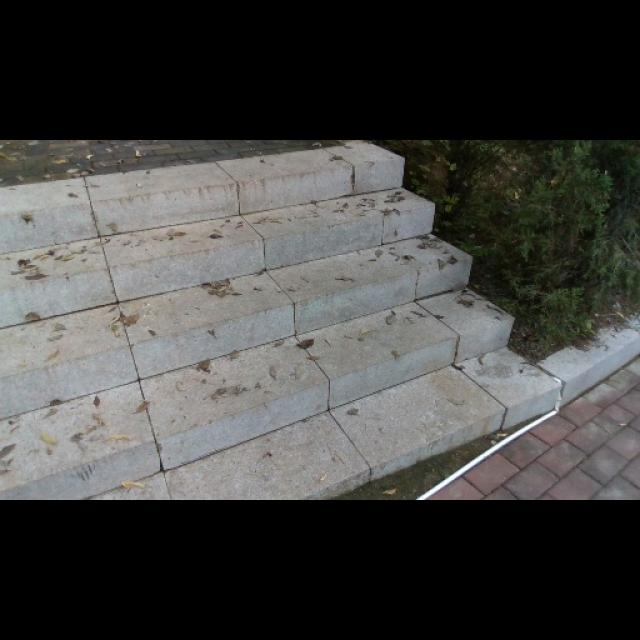Stairs: (0, 139, 564, 500)
